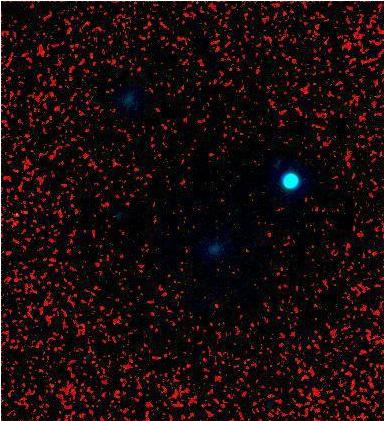star: (102, 147, 132, 177)
